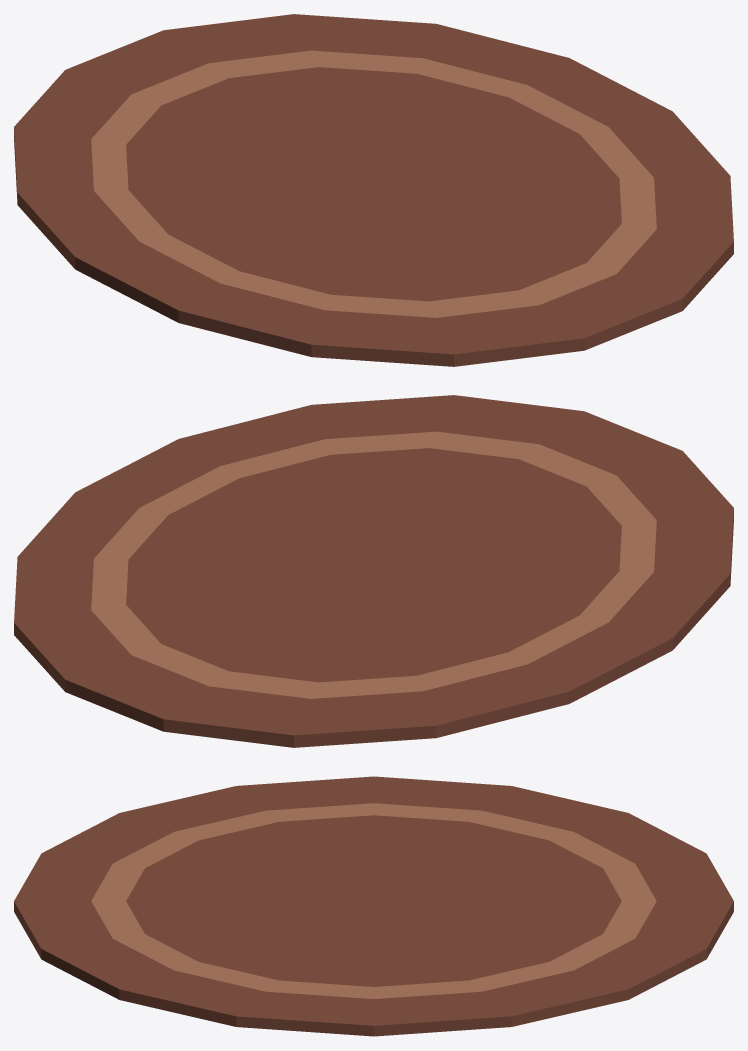
File: Livingroom_Rug2.fbx
3 views of the same model, one above another, from view 1: azimuth 30°, elevation 25°; view 2: azimuth 150°, elevation 25°; view 3: azimuth 270°, elevation 25° (orthographic). The views are drawn at different scales.
Parts seen in each view (by area): view 1: Livingroom_Rug2.001, Livingroom_Rug2; view 2: Livingroom_Rug2.001, Livingroom_Rug2; view 3: Livingroom_Rug2.001, Livingroom_Rug2.
Part boxes in pixels (x1,y1,x2,y2): Livingroom_Rug2.001: (14, 14, 733, 366); Livingroom_Rug2: (91, 50, 656, 317); Livingroom_Rug2.001: (14, 395, 733, 747); Livingroom_Rug2: (91, 431, 656, 698); Livingroom_Rug2.001: (14, 776, 733, 1036); Livingroom_Rug2: (91, 803, 656, 998).
Bounding box in the file's own units: 180 × 2.94 × 148.
